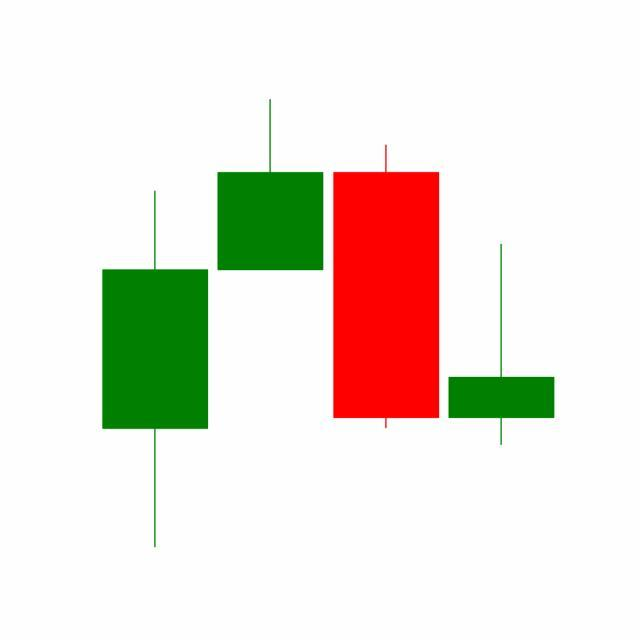Gravestone Doji: (444, 243, 560, 449)
